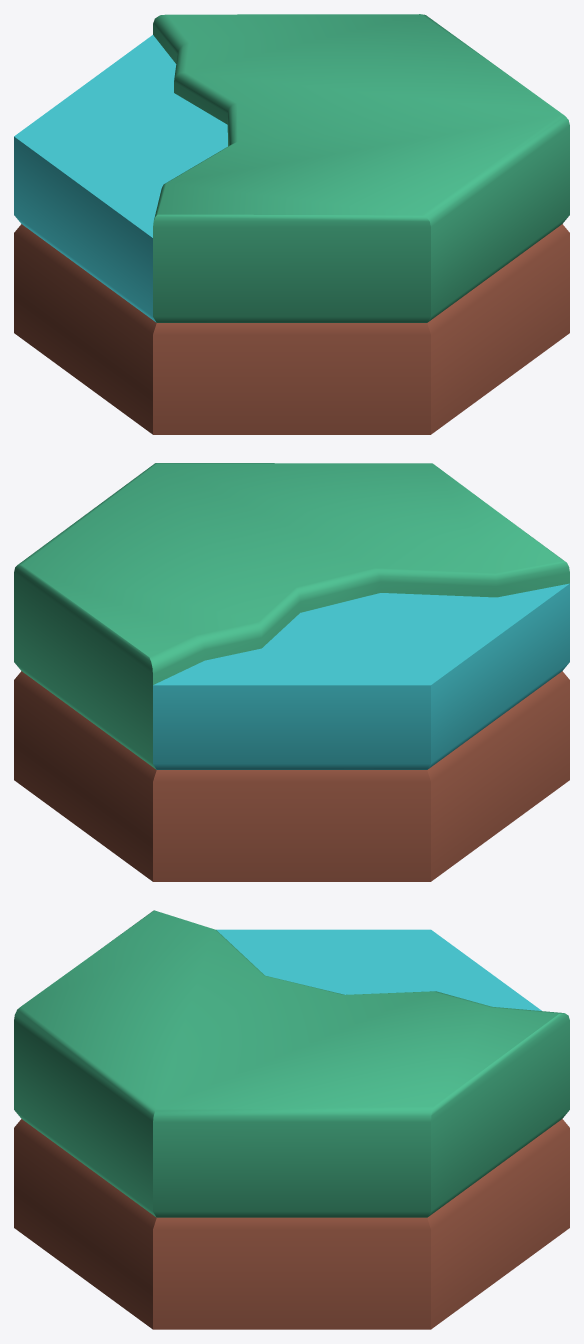
Rendered from hex_forest_waterD_detail.glb.
3 views of the same model, one above another, from view 1: azimuth 30°, elevation 25°; view 2: azimuth 150°, elevation 25°; view 3: azimuth 270°, elevation 25° (orthographic).
Parts seen in each view (by area): view 1: hex_forest_waterD_detail; view 2: hex_forest_waterD_detail; view 3: hex_forest_waterD_detail.
Boxes of the visible parts, bbox=[...] form: hex_forest_waterD_detail: bbox=[14, 14, 569, 434]; hex_forest_waterD_detail: bbox=[14, 463, 569, 881]; hex_forest_waterD_detail: bbox=[14, 910, 569, 1329].
Size of the model in its own units: 2 by 1 by 2.31.
